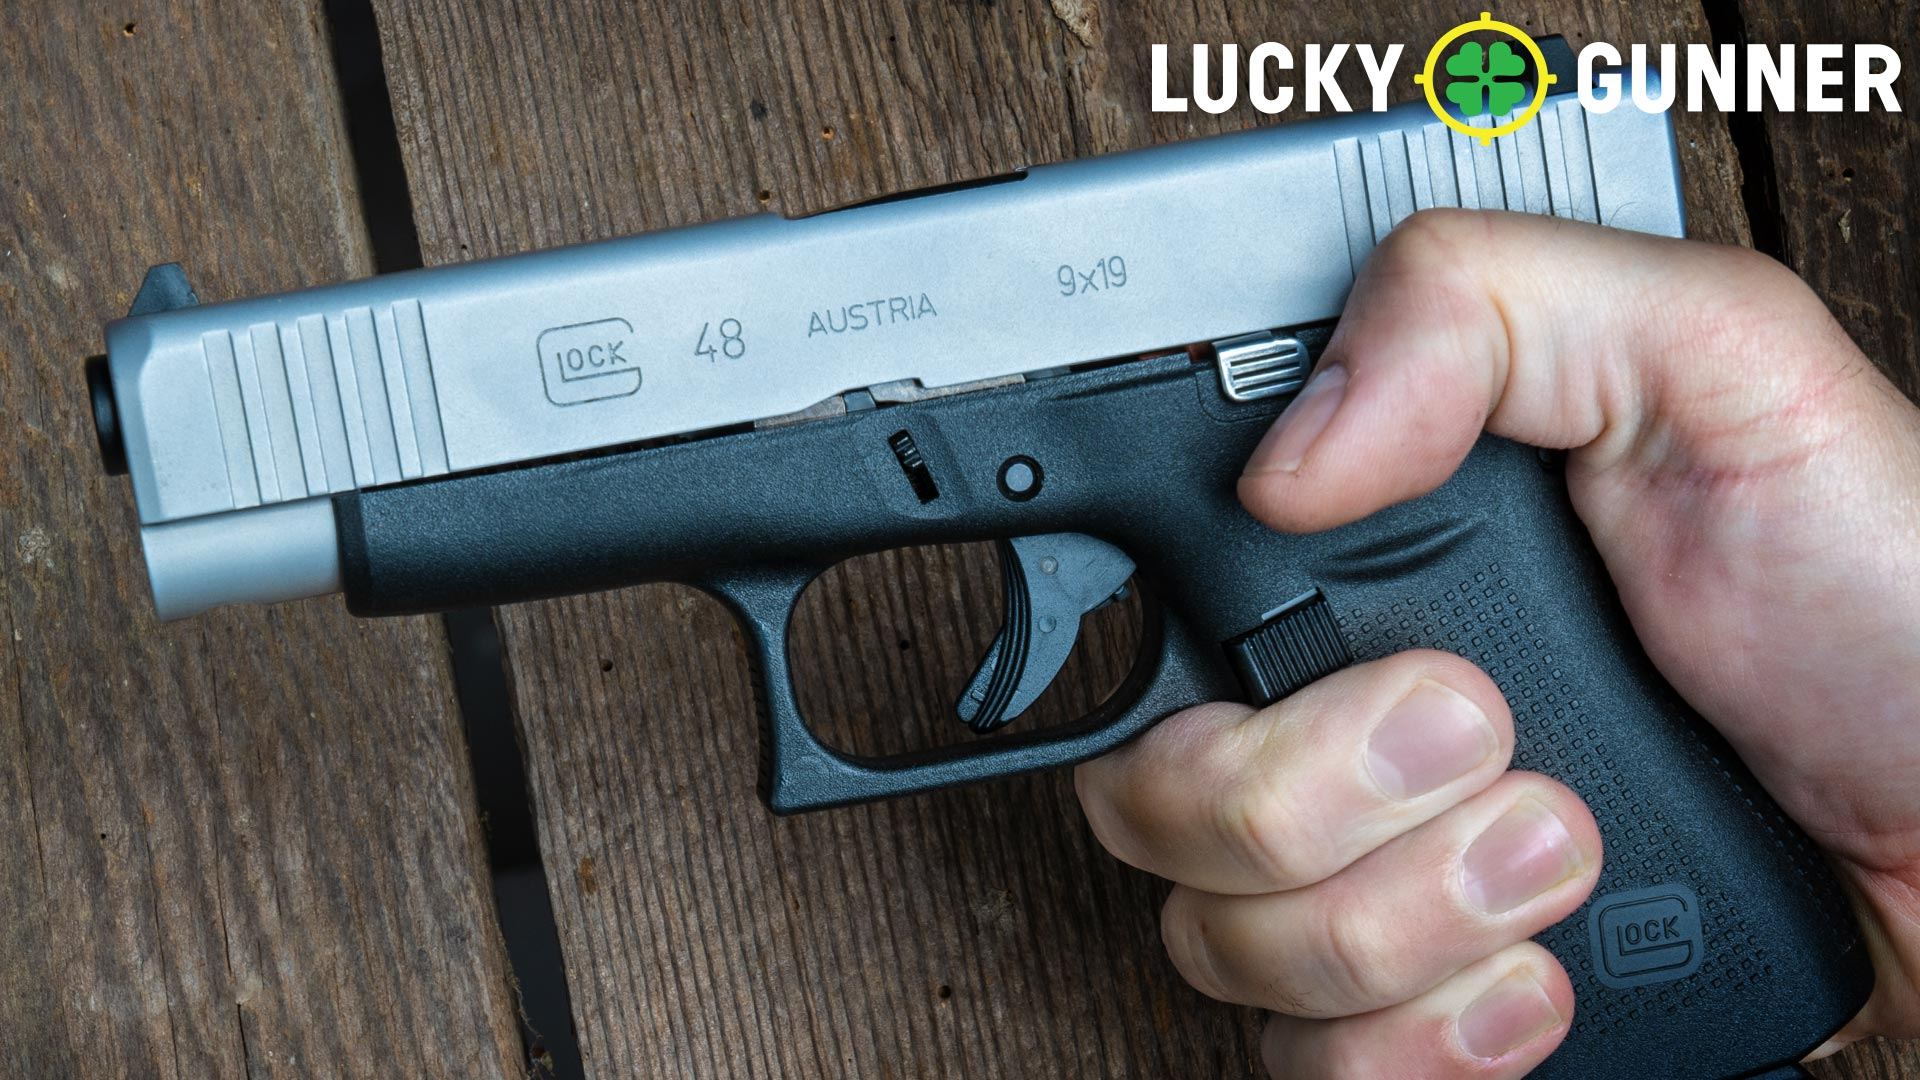gun: (73, 32, 1880, 1080)
